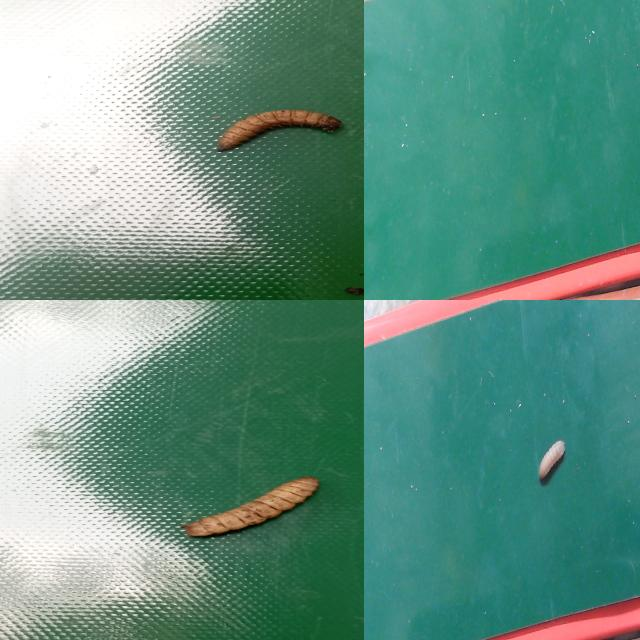Maggot: (184, 477, 320, 540), (217, 109, 343, 152), (536, 442, 565, 487)
